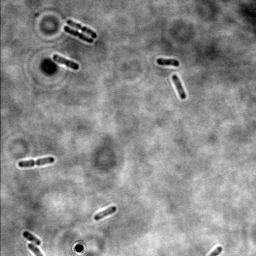Dividing: (65, 18, 97, 40), (63, 25, 94, 45), (51, 53, 81, 72), (16, 155, 56, 169)
Rod: (170, 74, 187, 101), (92, 205, 117, 222), (21, 230, 42, 247), (155, 57, 181, 68)
